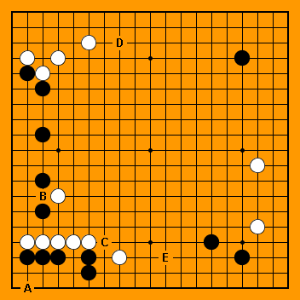black: (244, 284, 248, 288), (280, 64, 284, 68), (28, 83, 32, 87), (46, 156, 50, 160), (46, 211, 50, 215), (46, 101, 50, 105), (46, 247, 50, 251)
white: (28, 64, 32, 68), (64, 284, 68, 288), (100, 46, 104, 50), (64, 229, 68, 233), (82, 284, 86, 288), (28, 284, 32, 288), (64, 64, 68, 68), (100, 284, 104, 288), (46, 284, 50, 288), (46, 83, 50, 87), (298, 192, 300, 196), (298, 265, 300, 269)
